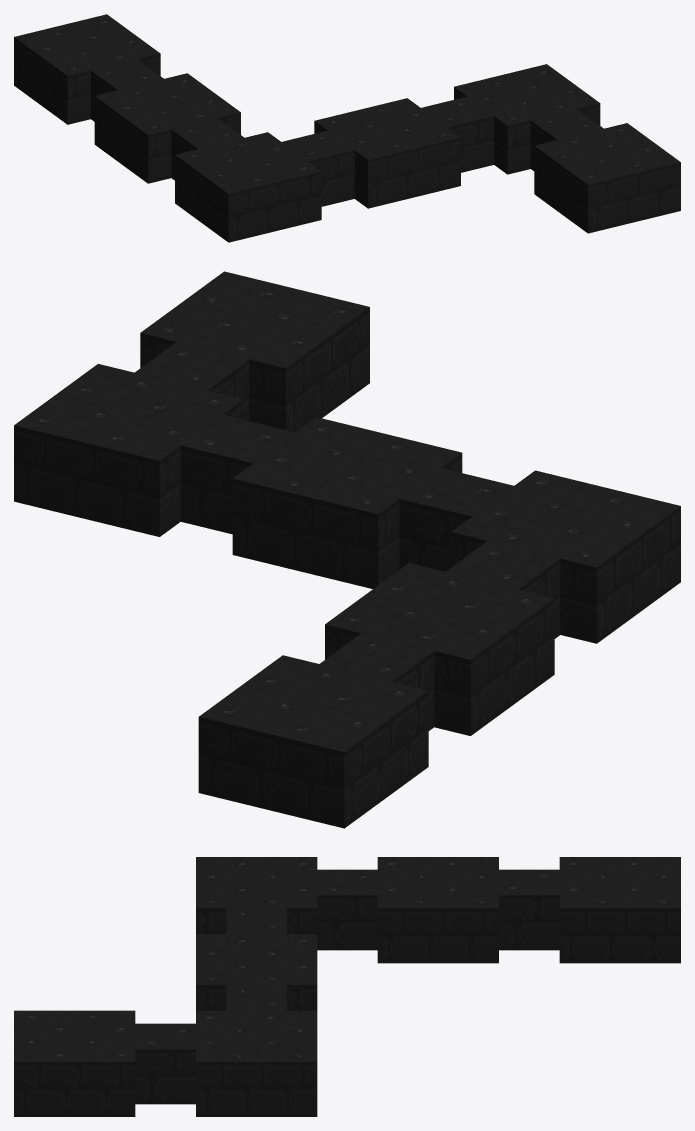
File: dungeon1.obj
3 renders of one model, top to bottom at view 1: azimuth 30°, elevation 25°; view 2: azimuth 150°, elevation 25°; view 3: azimuth 270°, elevation 25°, orthographic. The views are drawn at different scales.
Visible parts, largest first — view 1: Dungeon; view 2: Dungeon; view 3: Dungeon.
Part boxes in pixels (x1,y1,x2,y2): Dungeon: (14,14,680,242); Dungeon: (14,271,680,828); Dungeon: (14,857,680,1116).
Size of the model in its own units: 1024 by 128 by 1408.
2 materials, 2 textured.
